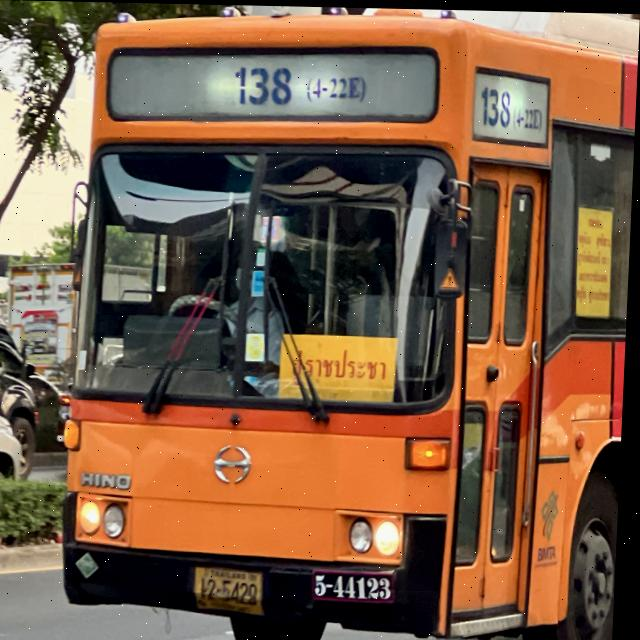BMTA-bus: (55, 1, 640, 640)
Bus-Line-Number: (223, 56, 385, 117)
Destination-Sign-Normal: (281, 329, 400, 403)
